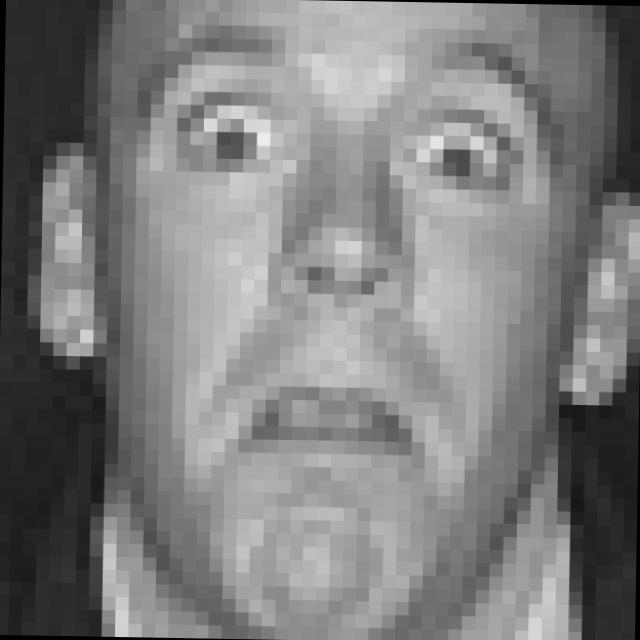surprise: (120, 7, 573, 486)
